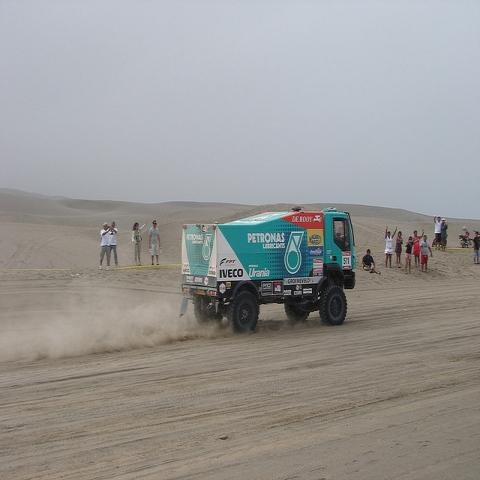truck: (181, 205, 358, 336)
